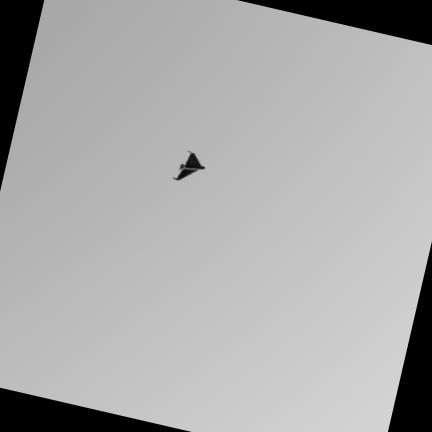Shahed: (174, 151, 204, 179)
